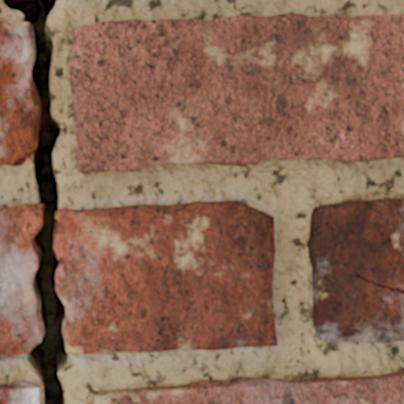brick: (70, 14, 403, 171), (308, 198, 403, 341), (91, 371, 403, 403), (0, 21, 39, 165), (0, 382, 40, 403)
broken_brick: (56, 200, 277, 355), (0, 203, 41, 356)
crack: (0, 0, 69, 403), (352, 274, 403, 294)
